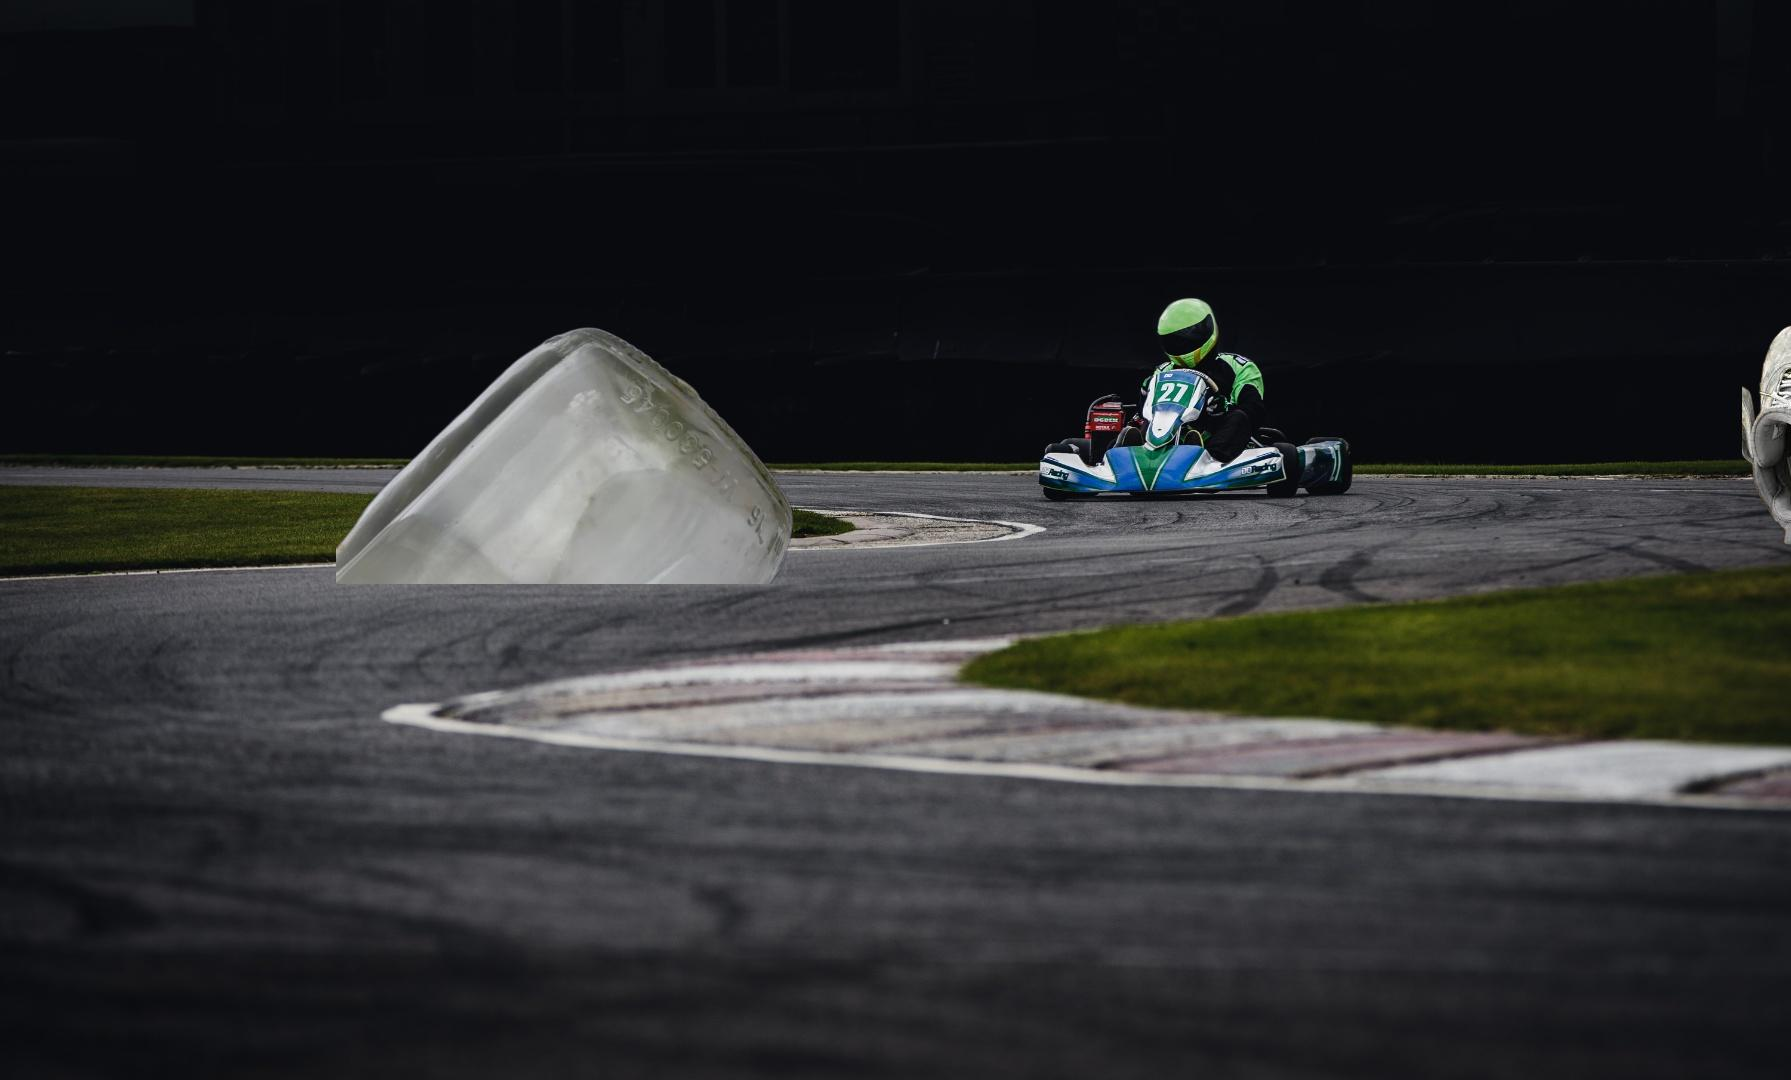glass: (336, 326, 797, 584)
shoes: (1742, 321, 1791, 549)
